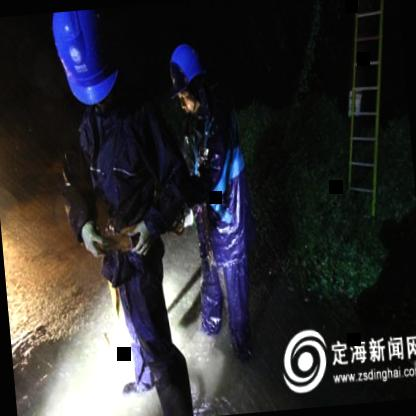helmet: (44, 11, 124, 127), (166, 38, 213, 122)
